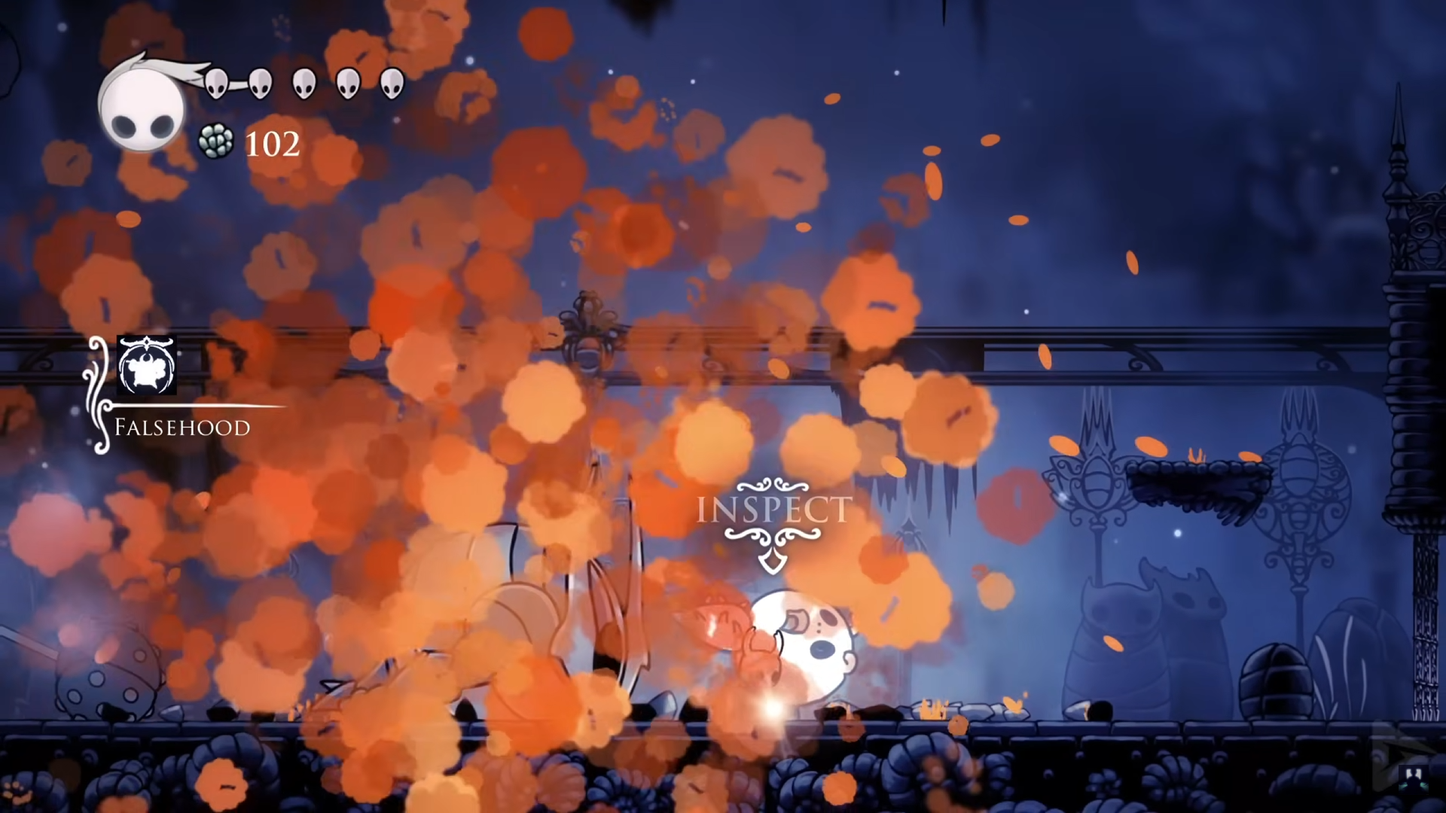HK: (727, 629, 782, 726)
